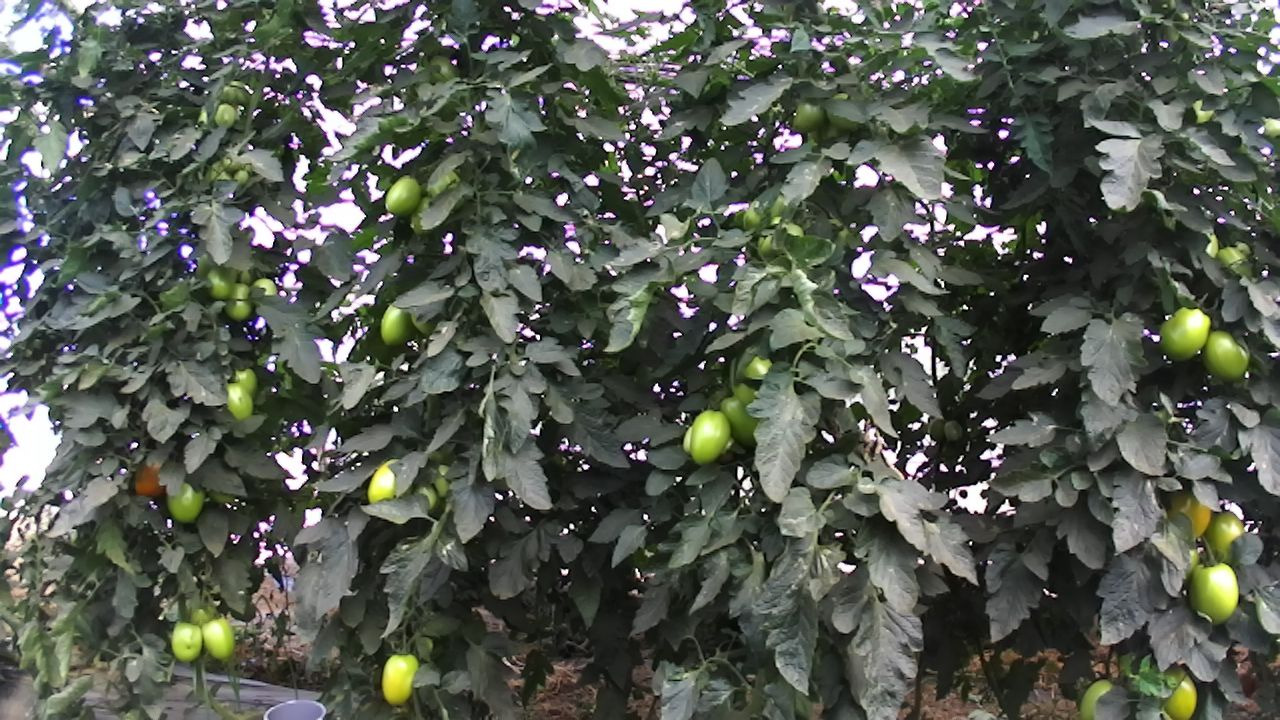tomato: (1185, 560, 1240, 629), (1157, 307, 1211, 365), (1200, 331, 1251, 385), (687, 409, 732, 468), (378, 653, 420, 708), (365, 456, 405, 509), (376, 302, 417, 347), (201, 613, 237, 661), (384, 175, 424, 217), (164, 483, 204, 524), (1163, 670, 1197, 718), (221, 281, 257, 326), (169, 619, 201, 666), (220, 382, 257, 421), (1077, 677, 1111, 718), (203, 263, 238, 301), (231, 362, 260, 402), (791, 103, 825, 134), (214, 102, 237, 130)
